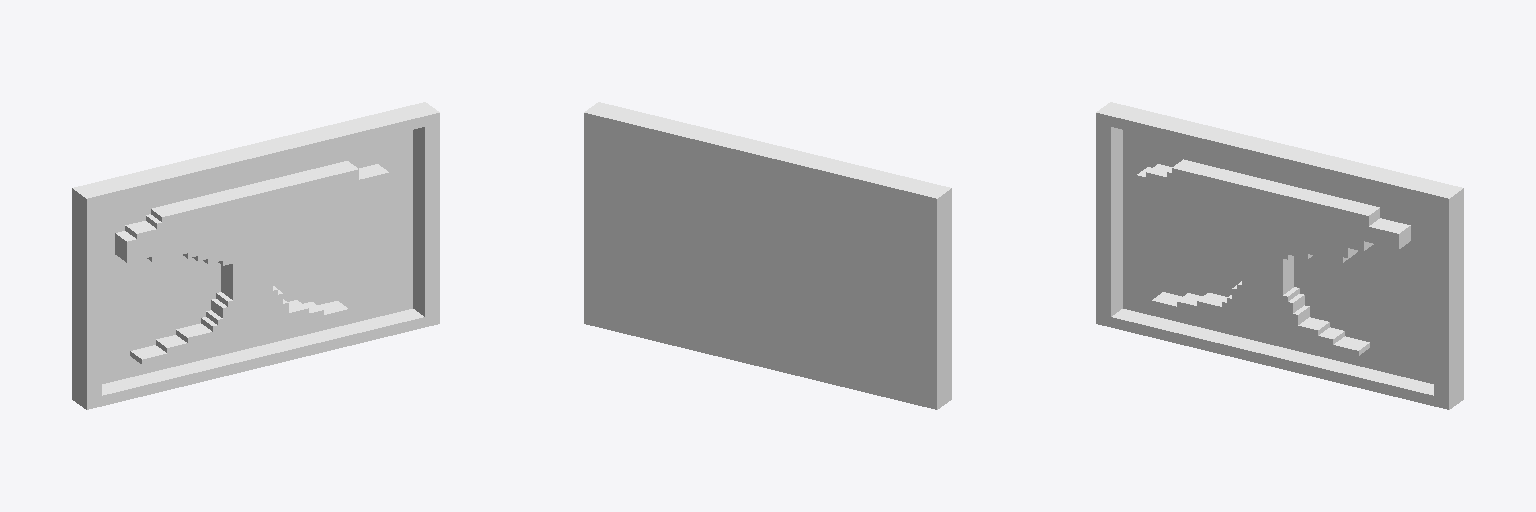
Rendered from SmithSign.obj.
3 renders of one model, left to right at view 1: azimuth 30°, elevation 25°; view 2: azimuth 150°, elevation 25°; view 3: azimuth 330°, elevation 25°, orthographic.
Visible parts, largest first — view 1: object 1; view 2: object 1; view 3: object 1.
Part boxes in pixels (x1,y1,x2,y2): object 1: (72, 102, 439, 409); object 1: (584, 102, 951, 409); object 1: (1096, 102, 1463, 409).
Size of the model in its own units: 7 by 4 by 0.5.